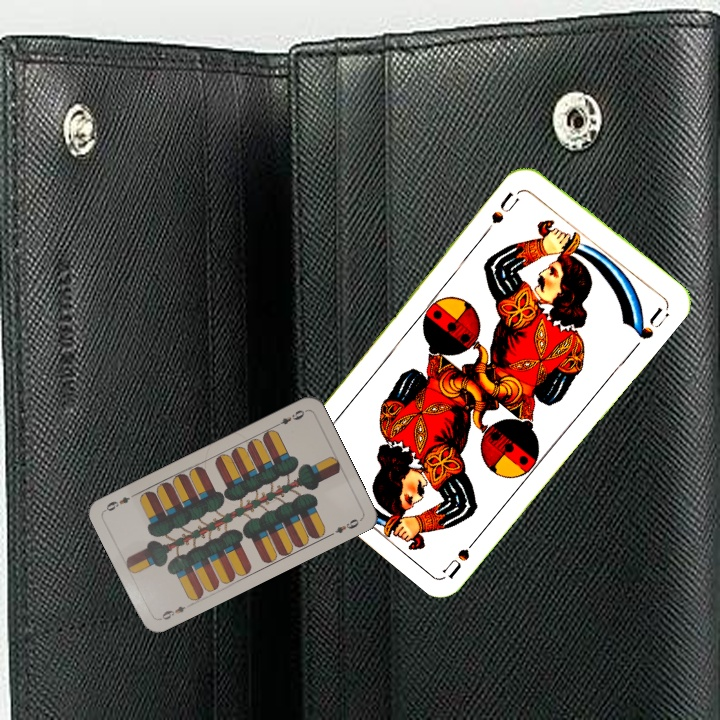E9: (270, 406, 308, 430), (156, 600, 194, 623)
SU: (439, 528, 485, 580), (483, 185, 526, 234)
